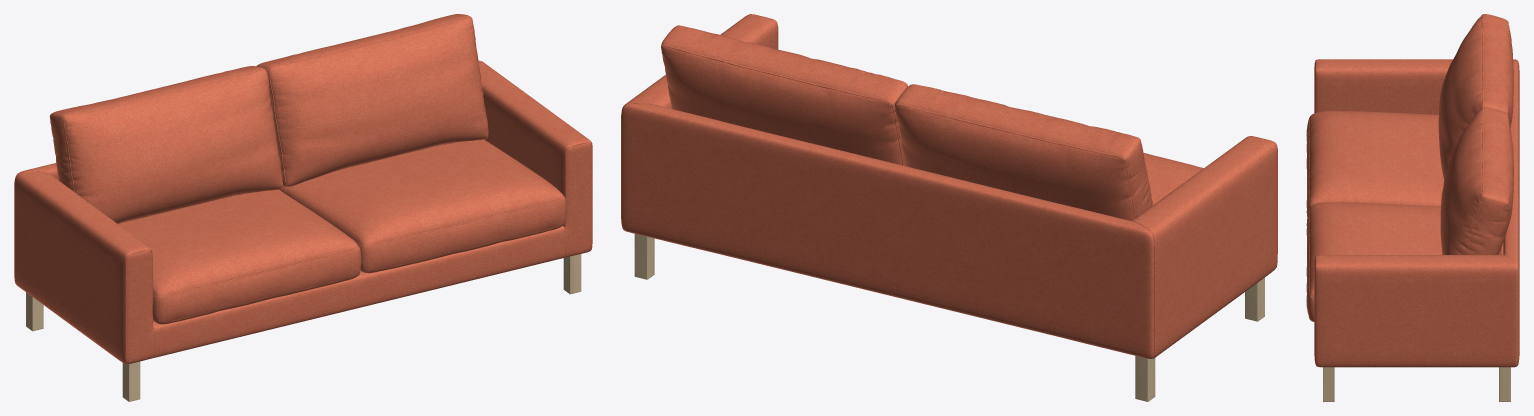
File: 10 - SALTSJÖBADEN - 三人座沙發，Tonerud 紅棕色 IKEA 線上購物.glb
The picture shows the model from 3 angles, left to right: view 1: azimuth 30°, elevation 25°; view 2: azimuth 150°, elevation 25°; view 3: azimuth 270°, elevation 25°; orthographic projection. The views are drawn at different scales.
Parts seen in each view (by area): view 1: 002, 000; view 2: 002, 000; view 3: 002, 000.
Boxes of the visible parts, box(x1,y1,x2,y2) form: 002: box(14, 14, 592, 364); 000: box(26, 254, 581, 401); 002: box(621, 14, 1277, 358); 000: box(634, 233, 1264, 401); 002: box(1306, 14, 1519, 367); 000: box(1323, 367, 1510, 401).
Size of the model in its own units: 2.05 by 0.9002 by 0.8803.
Materials: 2 (2 with a texture image).
